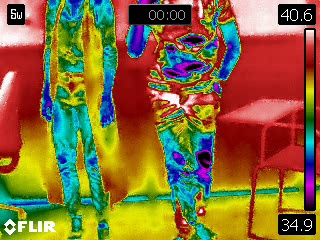human: (126, 1, 238, 239), (40, 1, 128, 239)
